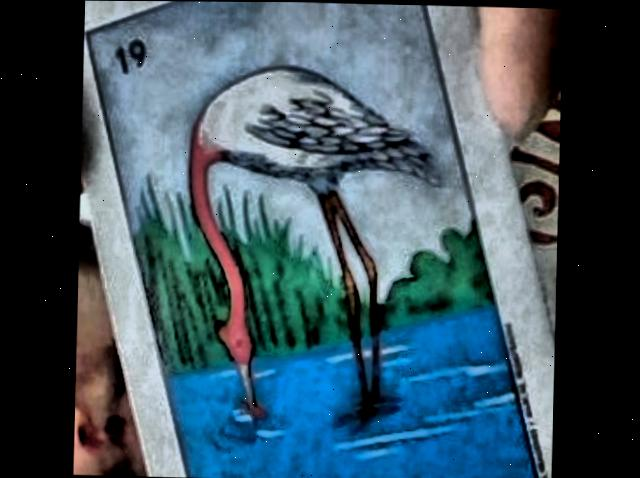El Garza: (87, 1, 537, 478)
